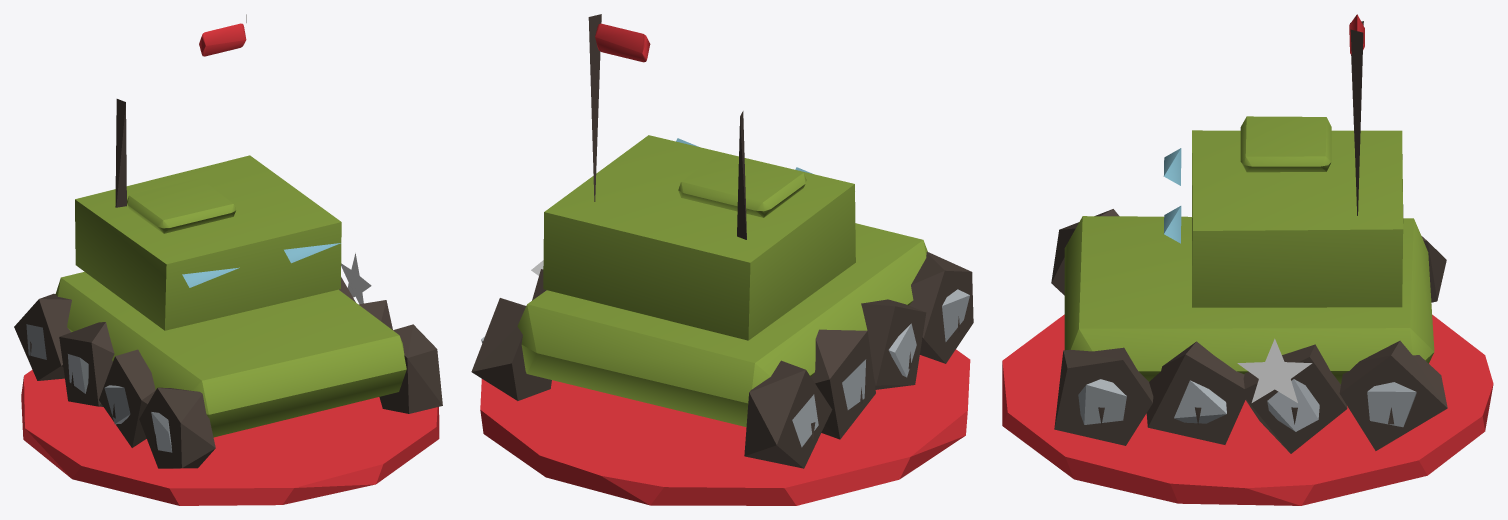
Rendered from usa_commander_lod1.glb.
The picture shows the model from 3 angles, left to right: view 1: azimuth 30°, elevation 25°; view 2: azimuth 150°, elevation 25°; view 3: azimuth 270°, elevation 25°; orthographic projection. The views are drawn at different scales.
Visible parts, largest first — view 1: body_hull, base_pedestal; view 2: body_hull, base_pedestal; view 3: body_hull, base_pedestal.
Part boxes in pixels (box(x1,y1,x2,y2)): body_hull: box(14, 14, 442, 468); base_pedestal: box(21, 369, 439, 505); body_hull: box(471, 14, 973, 468); base_pedestal: box(480, 349, 970, 505); body_hull: box(1051, 14, 1447, 453); base_pedestal: box(1002, 314, 1493, 505).
Size of the model in its own units: 0.7751 by 0.7101 by 0.7751.
